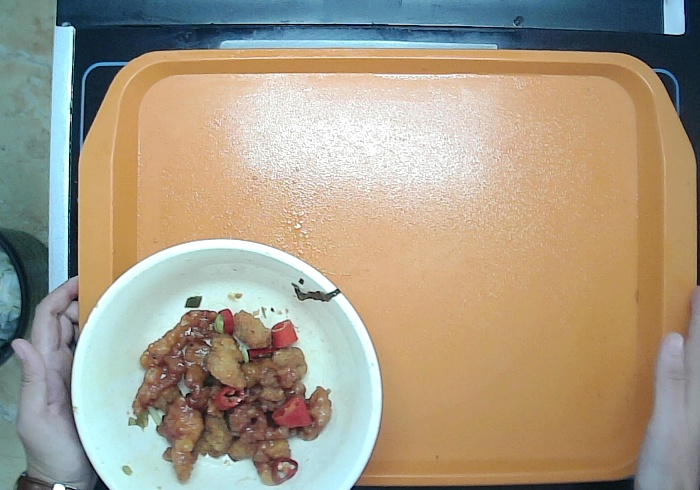ZNLD-Da_Tang_Wan: (71, 238, 383, 490)
